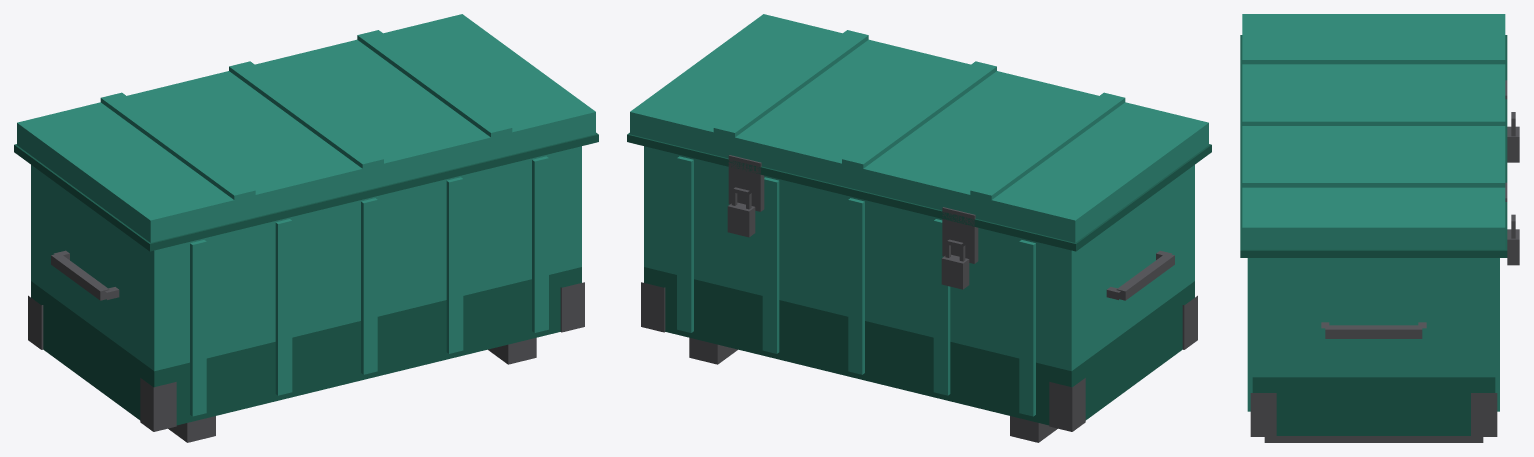
File: job-box.glb
3 views of the same model, side by side, from view 1: azimuth 30°, elevation 25°; view 2: azimuth 150°, elevation 25°; view 3: azimuth 270°, elevation 25° (orthographic).
Visible parts, largest first — view 1: JobBox; view 2: JobBox; view 3: JobBox.
Part boxes in pixels (box(x1,y1,x2,y2)): JobBox: box(14, 14, 598, 442); JobBox: box(627, 14, 1211, 442); JobBox: box(1240, 14, 1519, 442).
Bounding box in the file's own units: 1.29 × 0.662 × 0.69.
